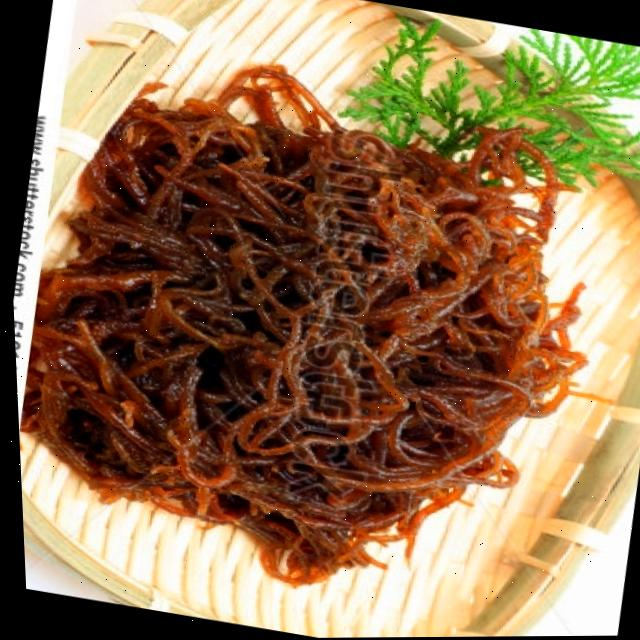蔬菜料理: (1, 37, 640, 629)
